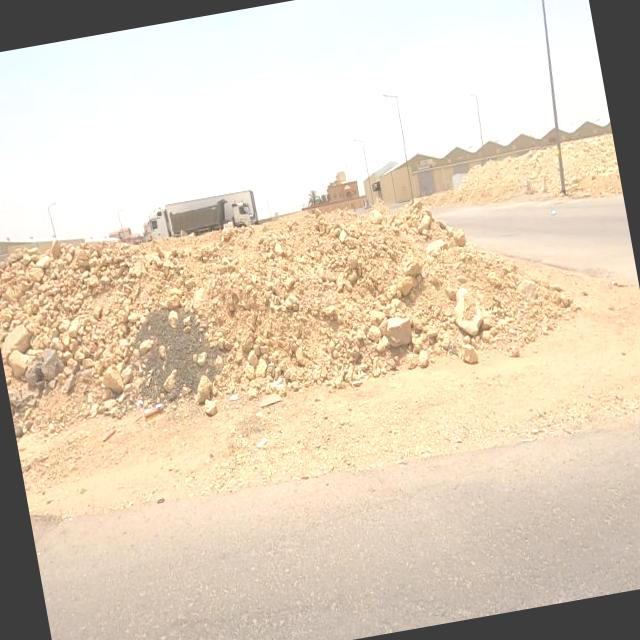debris: (85, 353, 224, 471), (230, 402, 290, 474), (205, 360, 267, 426), (257, 348, 301, 415)
